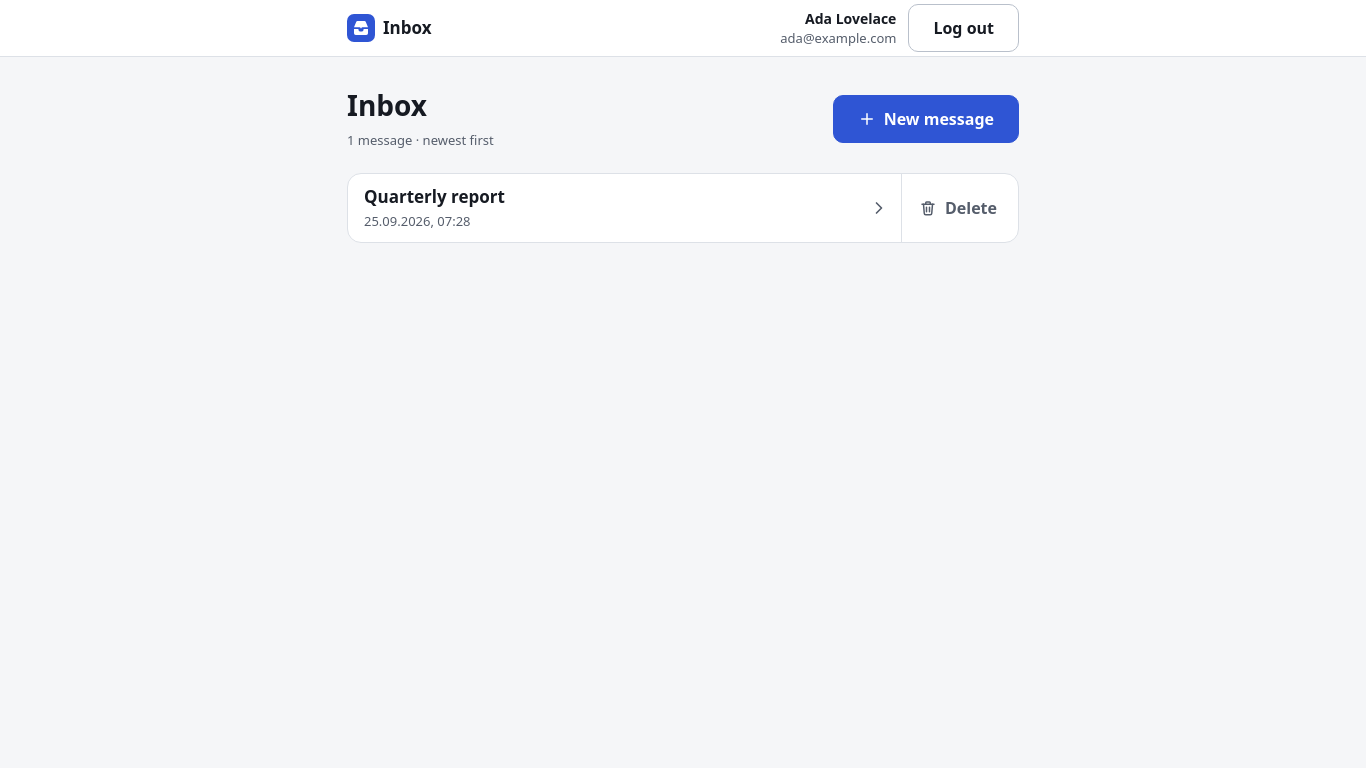
Deleting from the inbox › disables the dialog while deleting, sends one request and removes the message
The image size is (1366, 768).
Click the button with aria-label "Delete message: Quarterly report" at (958, 208), box [906,184,1010,232]
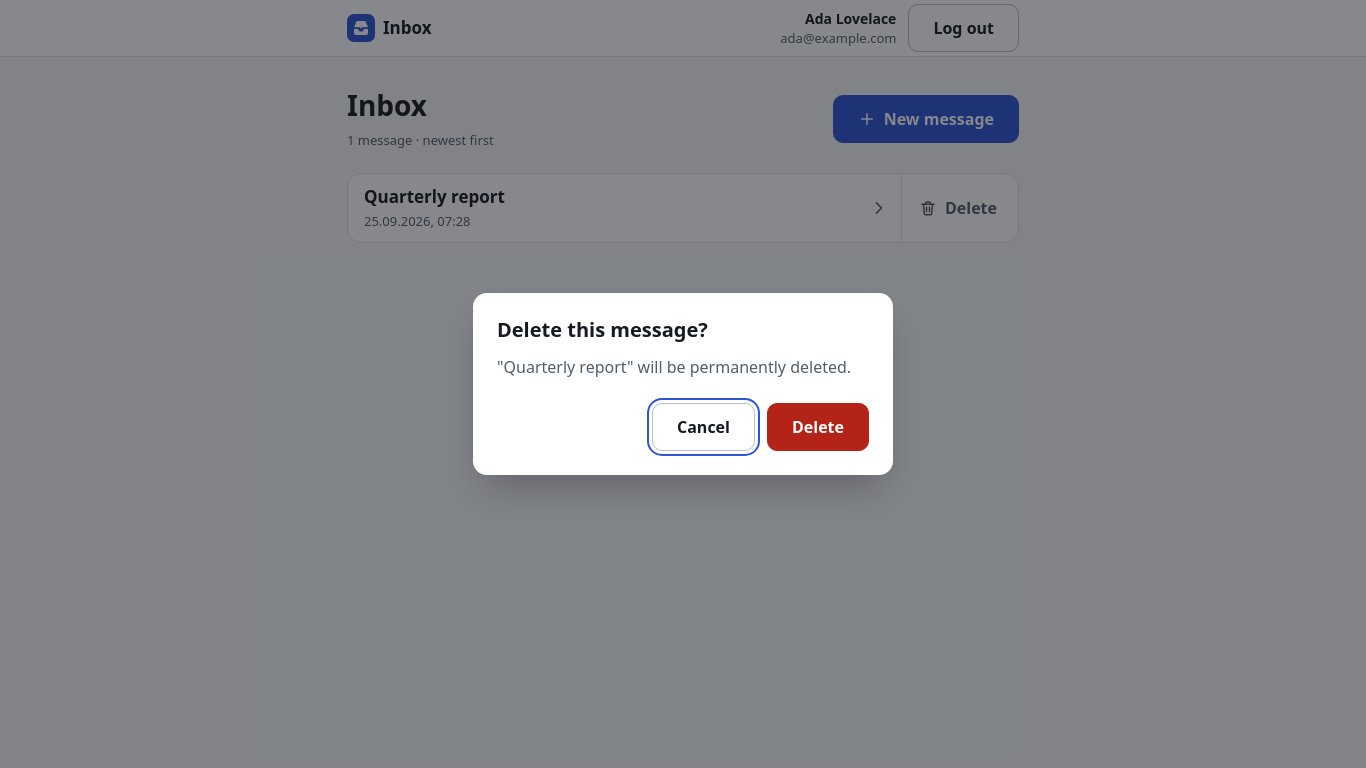
Click the button "Delete" at (818, 427), box [767,403,869,451]
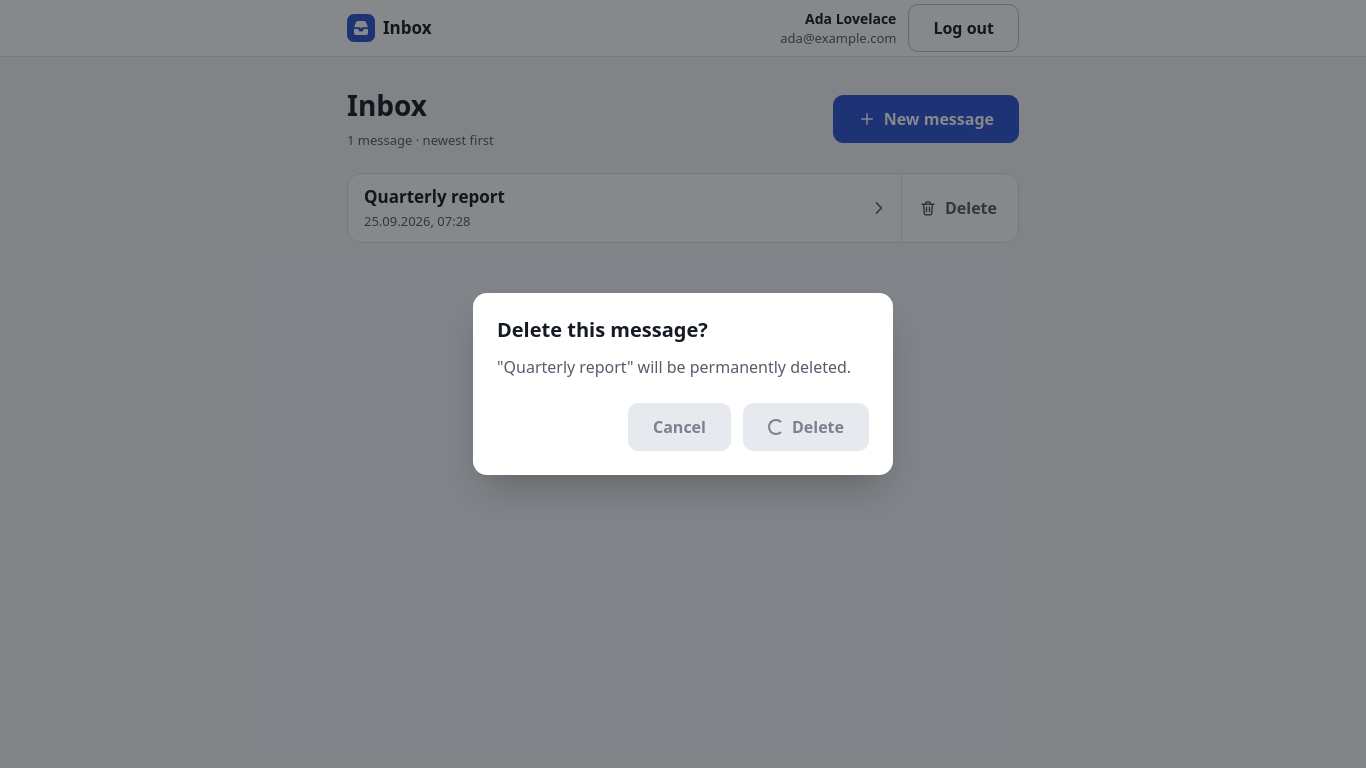
Check: the button "Delete" is disabled
Check: the button "Cancel" is disabled, box [628,403,731,451]
Click the button "Delete" at (806, 427), box [743,403,869,451]
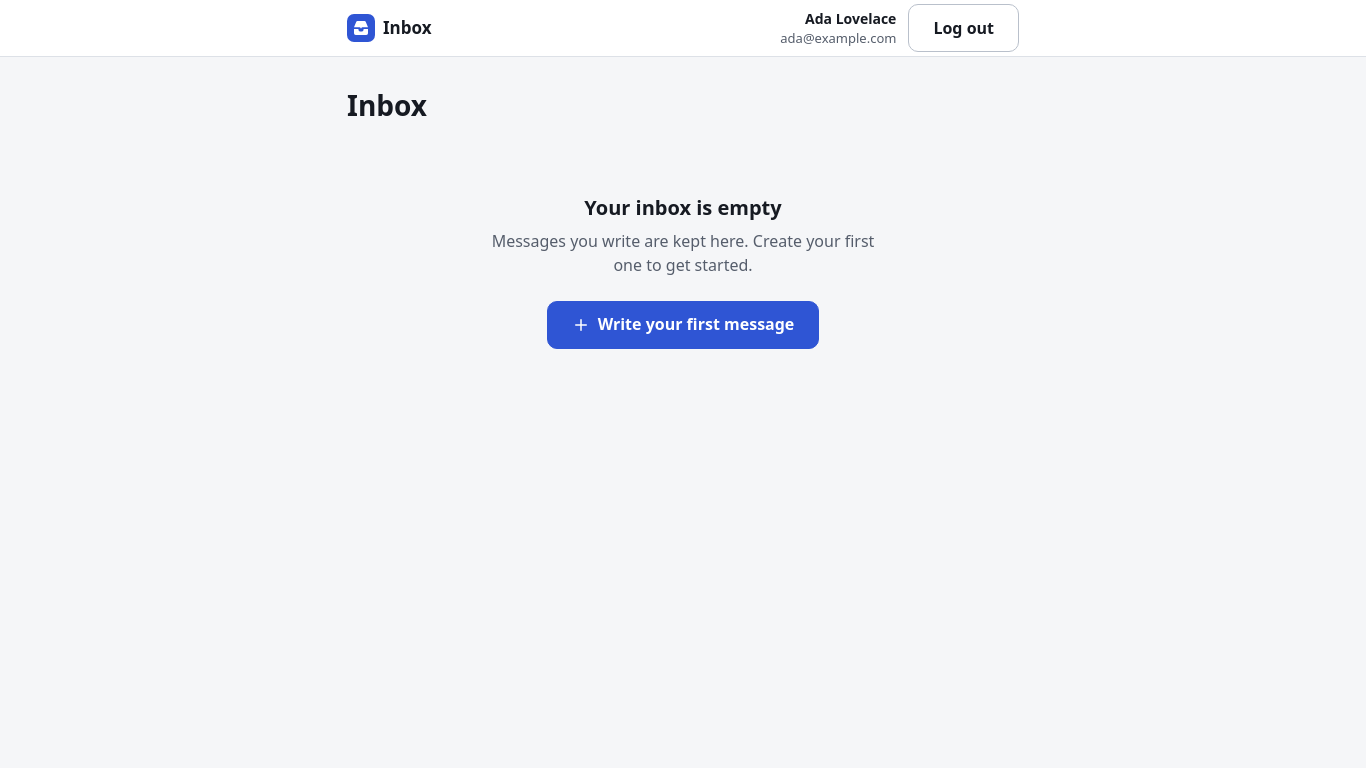
Check: the heading "Your inbox is empty" is shown, box [584,194,782,221]
Check: the dialog is gone
